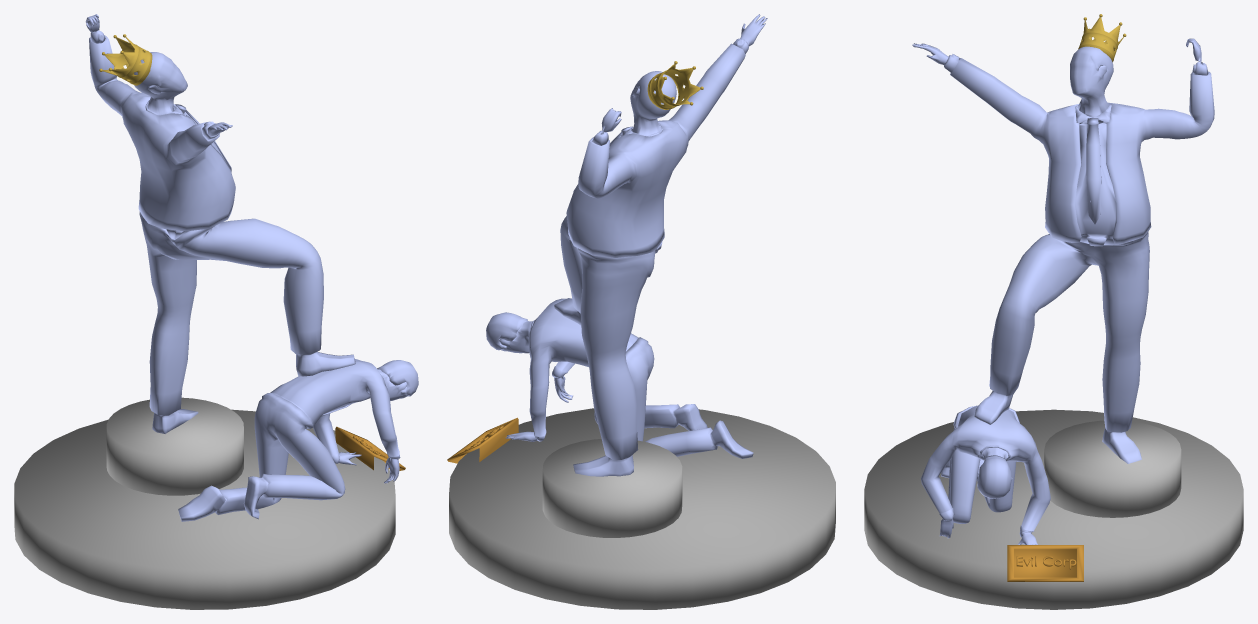
The model's file is YENIHEYKEL.fbx.
The picture shows the model from 3 angles, left to right: view 1: azimuth 30°, elevation 25°; view 2: azimuth 150°, elevation 25°; view 3: azimuth 270°, elevation 25°; orthographic projection. The views are drawn at different scales.
Parts seen in each view (by area): view 1: Cylinder.001; view 2: Cylinder.001; view 3: Cylinder.001.
Boxes of the visible parts, box(x1,y1,x2,y2) form: Cylinder.001: box(14, 14, 418, 609); Cylinder.001: box(447, 14, 835, 609); Cylinder.001: box(864, 14, 1243, 609).
Bounding box in the file's own units: 255 × 345 × 243.
